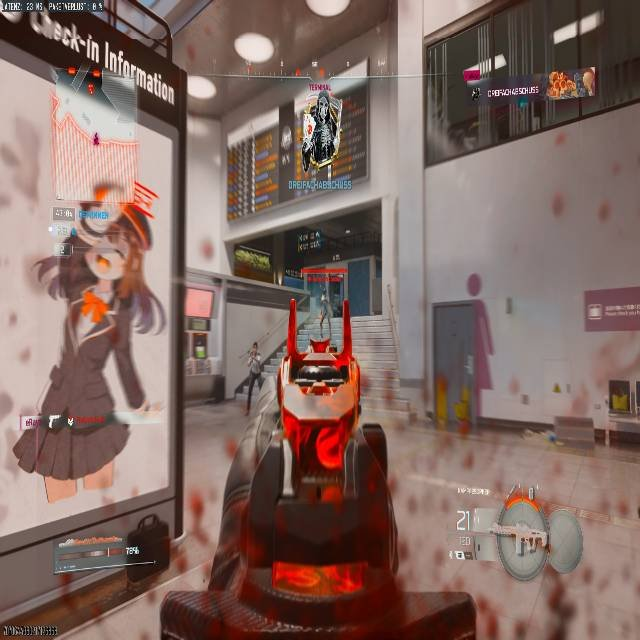head: (82, 202, 154, 286), (250, 341, 258, 352)
player: (18, 202, 164, 498), (234, 342, 264, 400)
